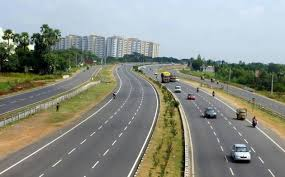object: (230, 139, 254, 164), (204, 104, 218, 120), (235, 107, 250, 121), (160, 71, 170, 83), (187, 91, 196, 100), (170, 72, 176, 83), (175, 85, 182, 93), (211, 89, 216, 98), (176, 74, 180, 83), (196, 86, 200, 94)
person: (54, 100, 62, 114), (112, 91, 117, 99), (252, 116, 257, 120)
